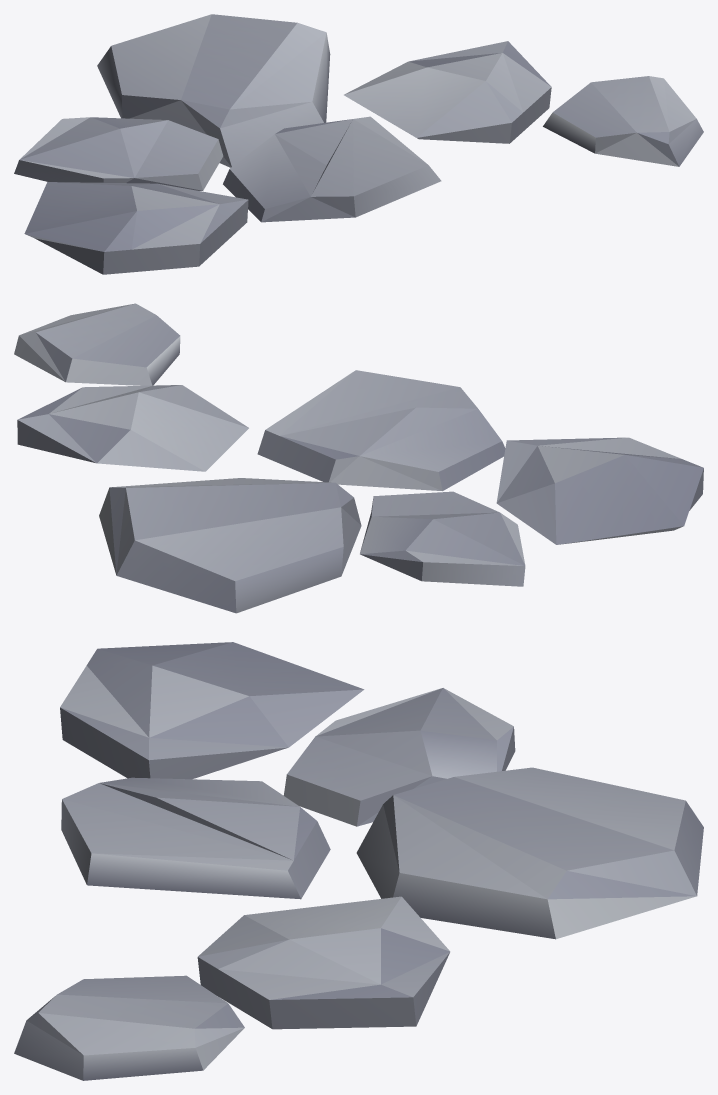
File: CONJUNTO DE PIEDRAS.fbx
3 views of the same model, one above another, from view 1: azimuth 30°, elevation 25°; view 2: azimuth 150°, elevation 25°; view 3: azimuth 270°, elevation 25° (orthographic). The views are drawn at different scales.
Visible parts, largest first — view 1: rocas pequeñas; view 2: rocas pequeñas; view 3: rocas pequeñas.
Part boxes in pixels (x1,y1,x2,y2): rocas pequeñas: (14,14,703,274); rocas pequeñas: (14,303,703,613); rocas pequeñas: (14,642,703,1080).
Size of the model in its own units: 171 by 117 by 14.55.
Materials: 1 (1 with a texture image).
